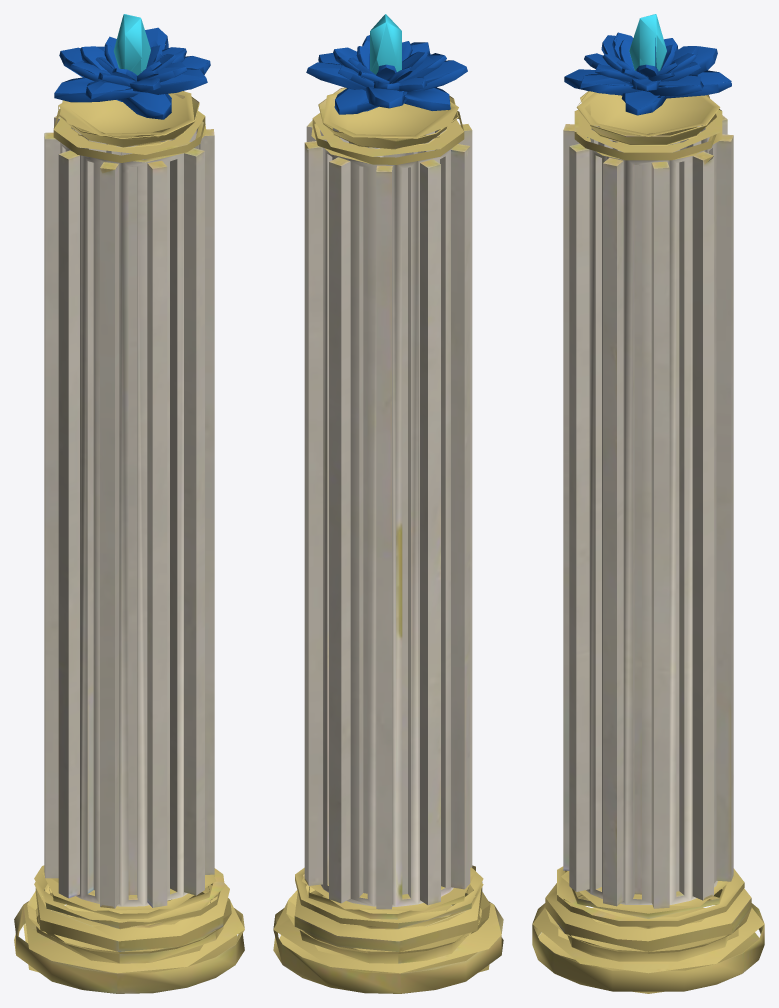
The model's file is archwayPillarLeft_lowPoly.glb.
3 views of the same model, side by side, from view 1: azimuth 30°, elevation 25°; view 2: azimuth 150°, elevation 25°; view 3: azimuth 270°, elevation 25° (orthographic).
Visible parts, largest first — view 1: archway_polySurface37.002, archway_polySurface37.005, archway_polySurface37.006; view 2: archway_polySurface37.002, archway_polySurface37.005, archway_polySurface37.006; view 3: archway_polySurface37.002, archway_polySurface37.005, archway_polySurface37.006.
Part boxes in pixels (bbox=[...]): archway_polySurface37.002: bbox=[14, 91, 244, 993]; archway_polySurface37.005: bbox=[54, 27, 210, 119]; archway_polySurface37.006: bbox=[113, 14, 150, 75]; archway_polySurface37.002: bbox=[273, 87, 503, 993]; archway_polySurface37.005: bbox=[306, 35, 467, 114]; archway_polySurface37.006: bbox=[370, 14, 401, 74]; archway_polySurface37.002: bbox=[532, 91, 764, 993]; archway_polySurface37.005: bbox=[564, 32, 731, 115]; archway_polySurface37.006: bbox=[629, 14, 666, 71].
Size of the model in its own units: 0.3006 by 1.33 by 0.3006.
Materials: 3 (1 with a texture image).
